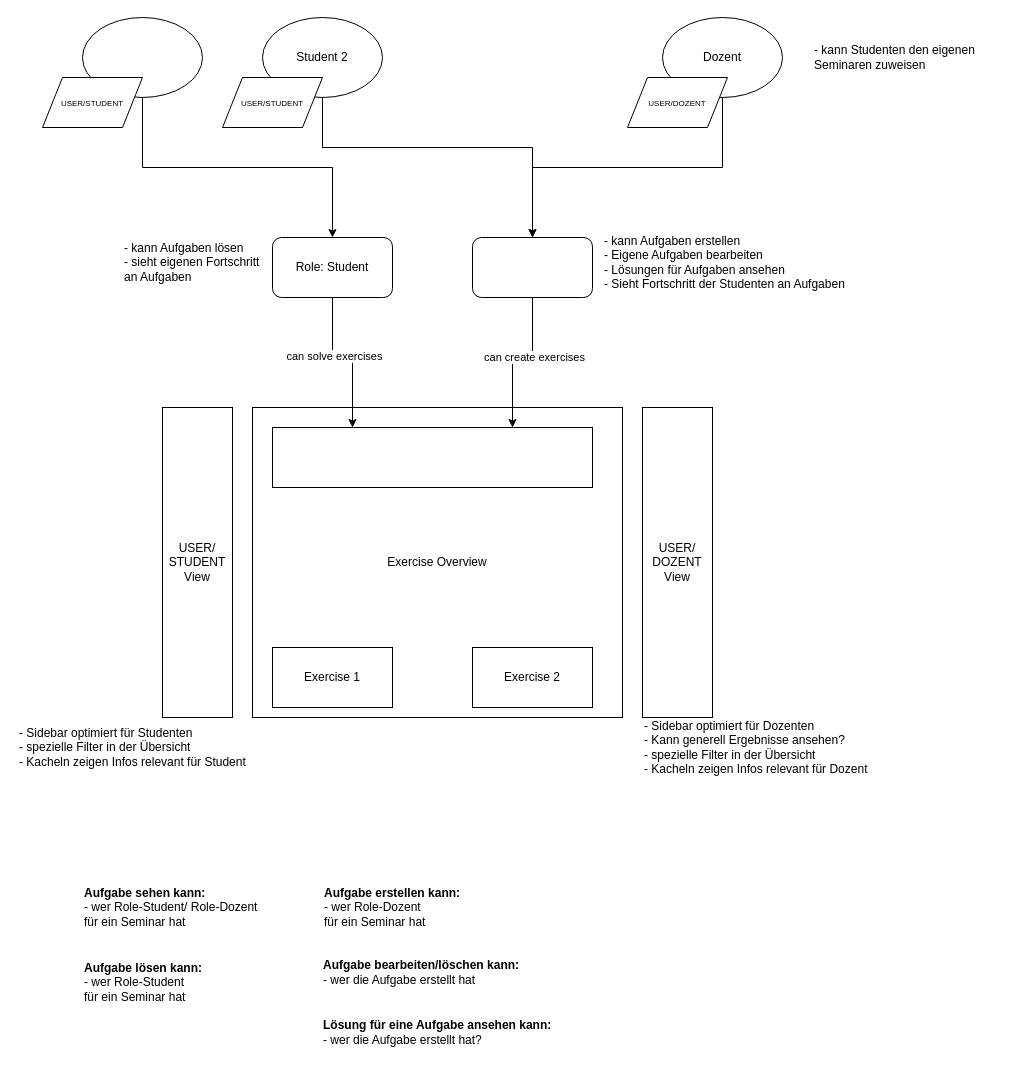
The diagram is 1009 pixels wide and 1065 high, and some of its shapes have lost their labels. Here are the shapes that lost their labels. From the top down, the centre of each, then its label:
(x=142, y=57): Student 1
(x=532, y=267): Role: Dozent
(x=432, y=457): Seminar 1
